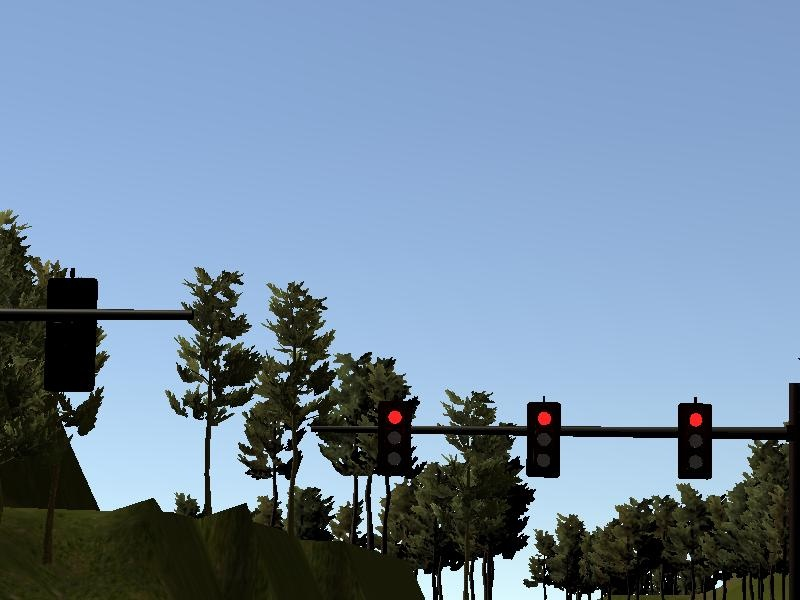red: (674, 400, 716, 482), (374, 396, 415, 479), (523, 396, 563, 481)
